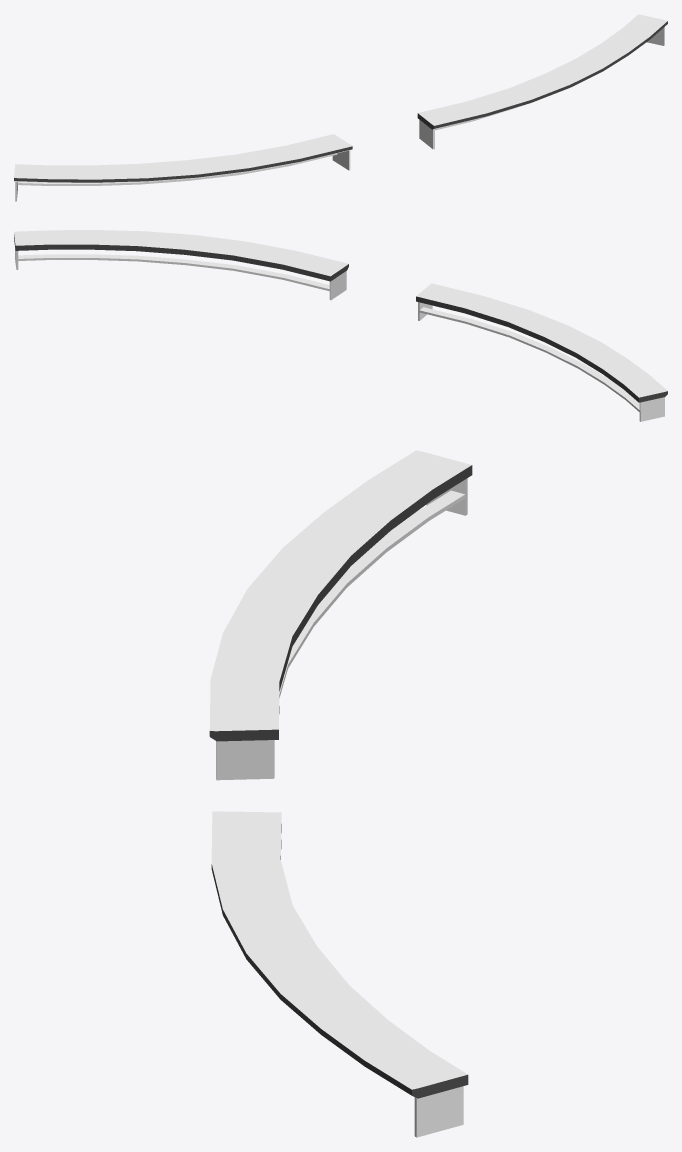
File: SittingChair3.fbx
3 renders of one model, top to bottom at view 1: azimuth 30°, elevation 25°; view 2: azimuth 150°, elevation 25°; view 3: azimuth 270°, elevation 25°, orthographic. The views are drawn at different scales.
Parts seen in each view (by area): view 1: SittingChair3; view 2: SittingChair3; view 3: SittingChair3.
Part boxes in pixels (x1=…): SittingChair3: x1=14, y1=14, x2=667, y2=201; SittingChair3: x1=14, y1=230, x2=667, y2=421; SittingChair3: x1=209, y1=450, x2=472, y2=1137.
Size of the model in its own units: 1575 by 60.26 by 274.
1 material, 1 textured.
